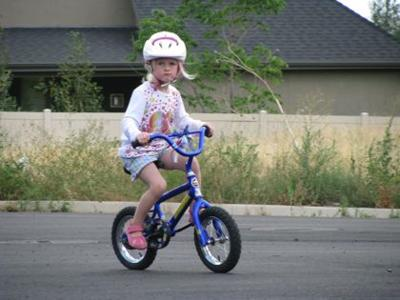person: (121, 31, 214, 250)
